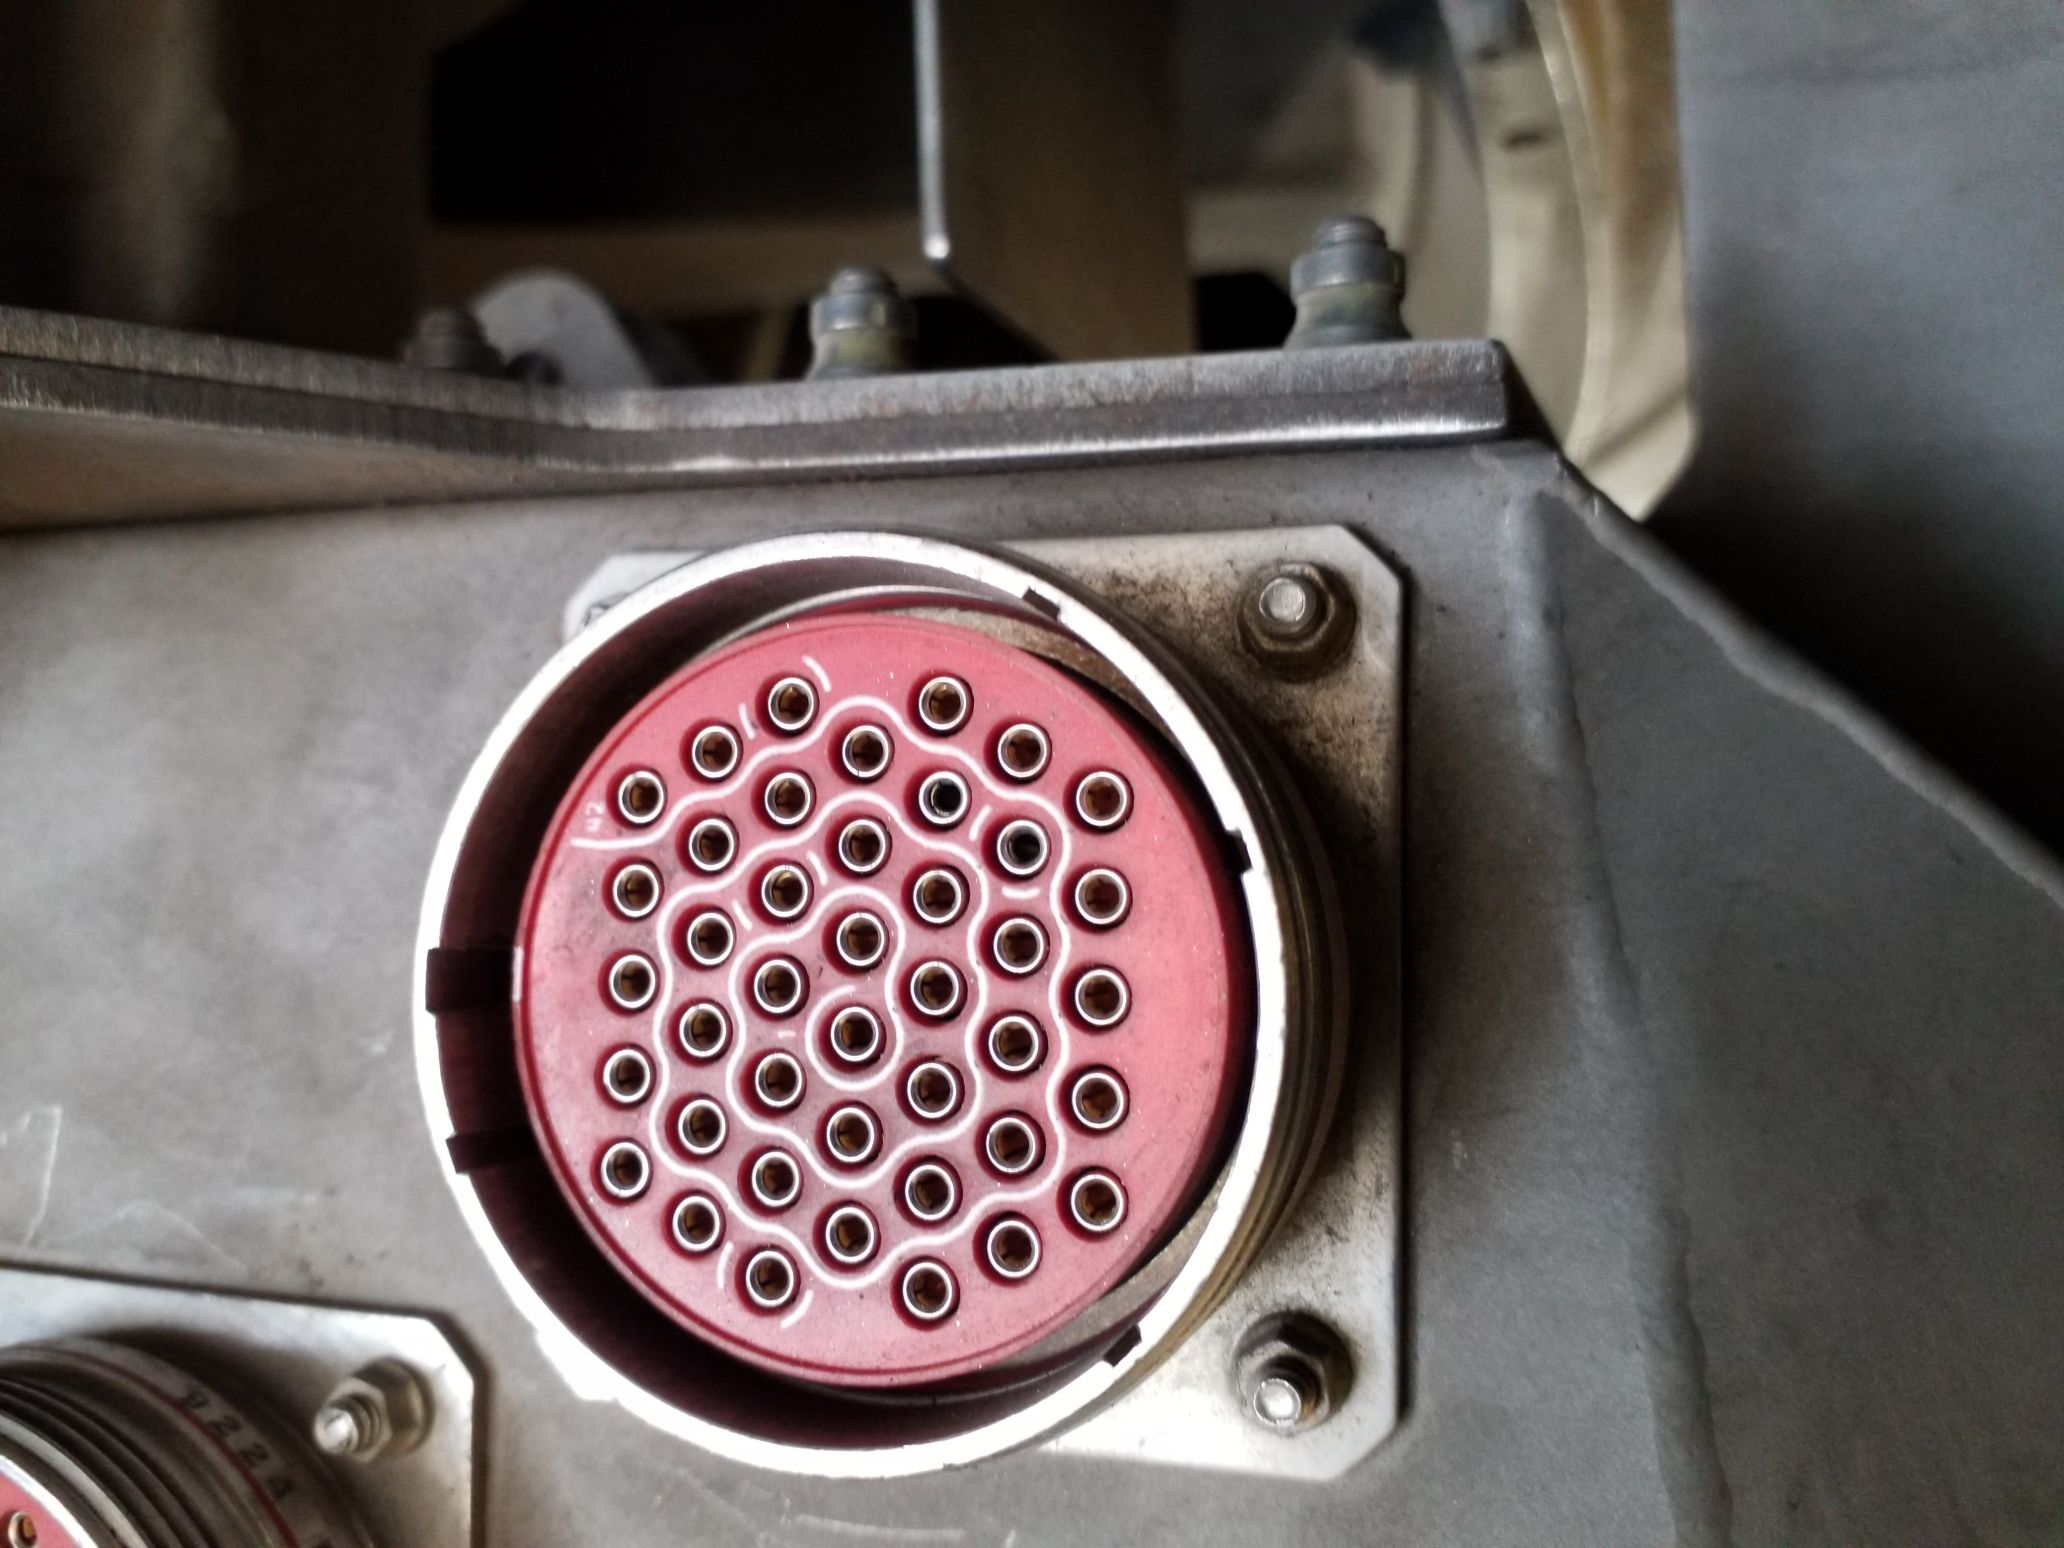inletround: (406, 535, 1318, 1486)
